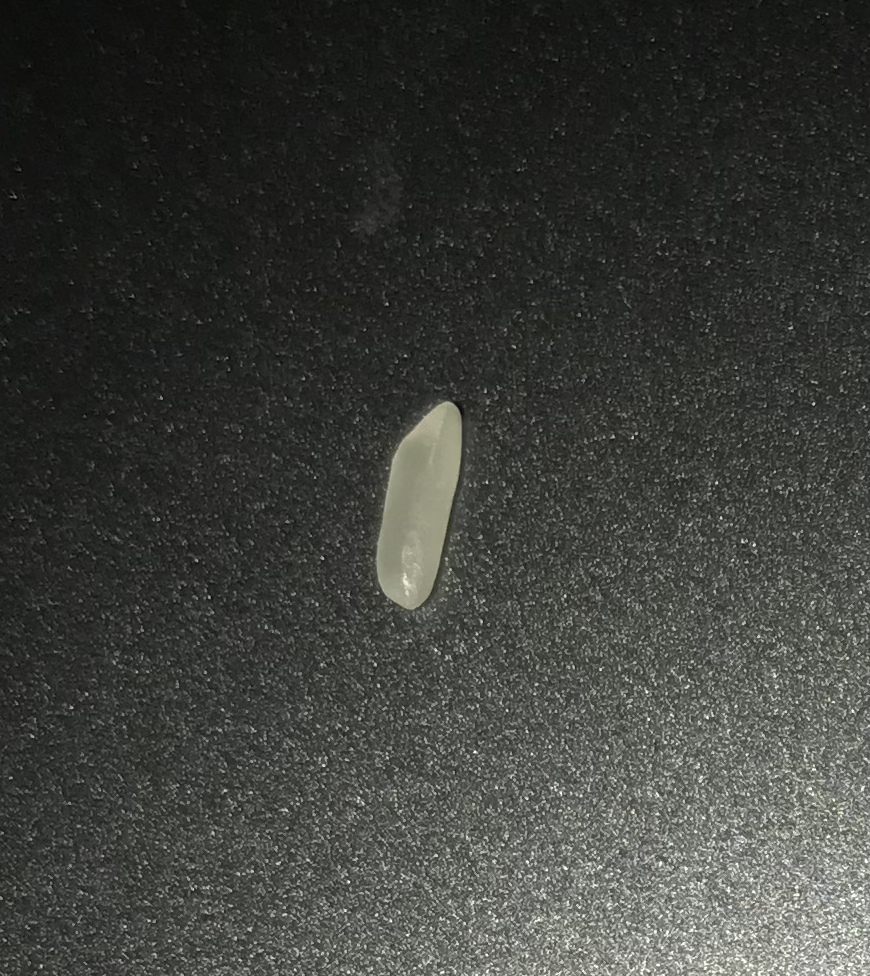Gao Thom My: (370, 400, 478, 624)
